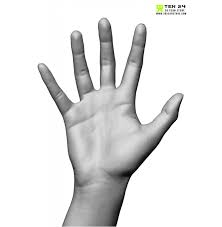hand: (23, 13, 193, 186)
